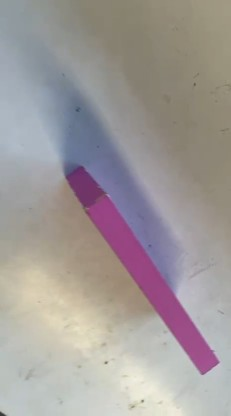pink: (59, 159, 214, 373)
